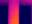Hotspot: (8, 10, 19, 23)
